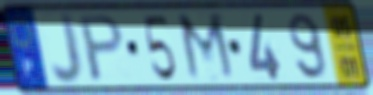4: (246, 10, 284, 84)
5: (139, 14, 179, 82)
9: (286, 11, 330, 81)
J: (50, 10, 85, 88)
M: (174, 11, 240, 85)
P: (77, 12, 126, 85)
